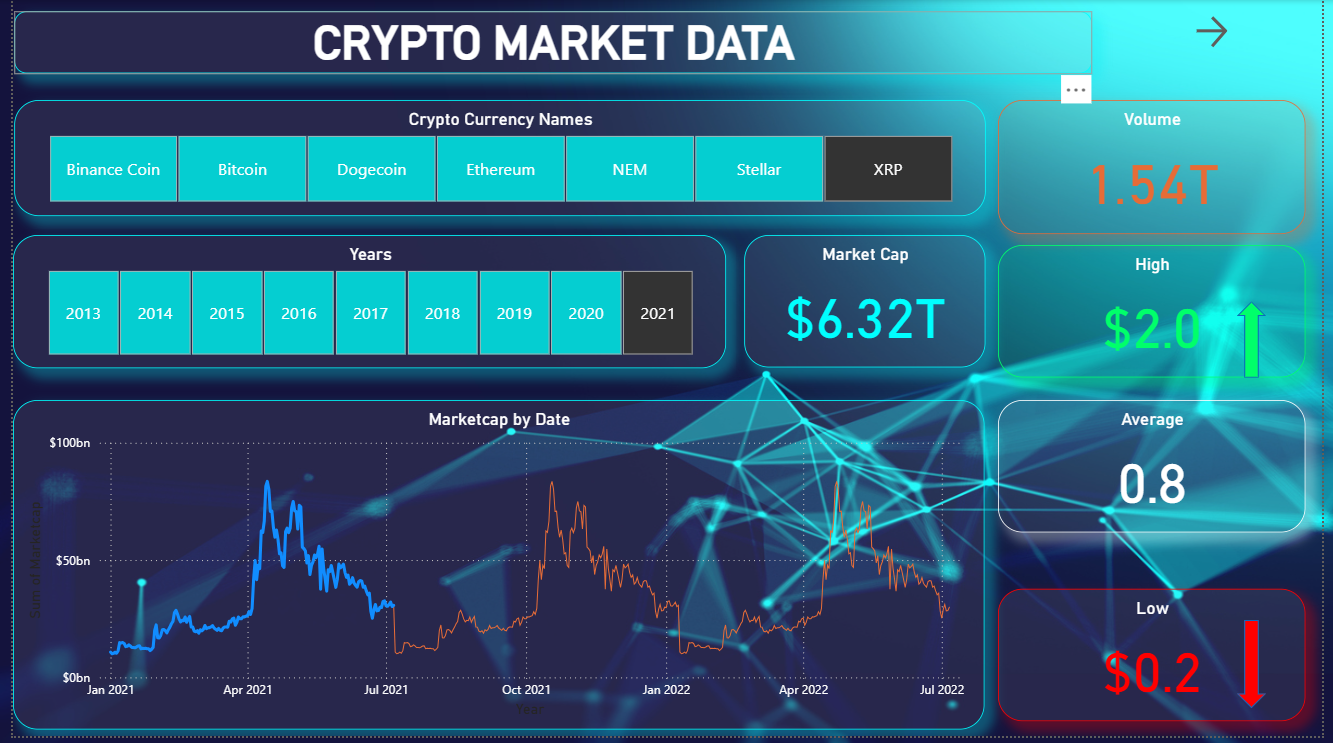

The page's visual inventory and layout, read from the dashboard file:
{"tool":"powerbi","page":{"name":"Page 1","canvas":[1280,720],"ordinal":0},"visuals":[{"type":"slicer","title":"Crypto Currency Names","fields":{"Values":["CryptoData_CSV.Name"]},"box":[1.2,97.8,950.1,113.7],"z":0},{"type":"slicer","title":"Years","fields":{"Values":["CryptoData_CSV.Year"]},"box":[0,229.8,698,130.8],"z":1000},{"type":"lineChart","title":"Marketcap by Date","fields":{"Y":["Sum(CryptoData_CSV.Marketcap)"],"Category":["CryptoData_CSV.Date.Variation.Date Hierarchy.Year","CryptoData_CSV.Date.Variation.Date Hierarchy.Month","CryptoData_CSV.Date.Variation.Date Hierarchy.Day"]},"box":[0,391.7,950.4,322.6],"z":2000},{"type":"actionButton","box":[1152,11.5,44.6,40.3],"z":3000},{"type":"card","title":"Market Cap","fields":{"Values":["Sum(CryptoData_CSV.Marketcap)"]},"box":[715.4,229.9,236,129.6],"z":4000},{"type":"card","title":"Volume","fields":{"Values":["Sum(CryptoData_CSV.Volume)"]},"box":[963.6,97.8,300.8,130.8],"z":5000},{"type":"card","title":"High","fields":{"Values":["Max(CryptoData_CSV.High)"]},"box":[963.6,239.7,300.8,129.6],"z":6000},{"type":"card","title":"Average","fields":{"Values":["Avg(CryptoData_CSV.Average)"]},"box":[963.6,391.3,300.8,129.6],"z":7000},{"type":"card","title":"Low","fields":{"Values":["Min(CryptoData_CSV.Low)"]},"box":[963.6,576,300.8,129.6],"z":8000},{"type":"shape","box":[1196.6,295.2,28.8,74.9],"z":9000},{"type":"shape","box":[1196.6,606.2,28.8,86.4],"z":10000},{"type":"textbox","title":"CRYPTO MARKET DATA","box":[1.2,11,1054.1,61.1],"z":11000}]}

Visuals, with their boxes in screenshot pixels (x1, y1, x2, y2), scaled from the page's 1280x720 canvas onto the 1333x743 screenshot:
"Crypto Currency Names" slicer: bbox=[1, 101, 991, 218]
"Years" slicer: bbox=[0, 237, 727, 372]
"Marketcap by Date" lineChart: bbox=[0, 404, 990, 737]
actionButton: bbox=[1200, 12, 1246, 53]
"Market Cap" card: bbox=[745, 237, 991, 371]
"Volume" card: bbox=[1003, 101, 1317, 236]
"High" card: bbox=[1003, 247, 1317, 381]
"Average" card: bbox=[1003, 404, 1317, 538]
"Low" card: bbox=[1003, 594, 1317, 728]
shape: bbox=[1246, 305, 1276, 382]
shape: bbox=[1246, 626, 1276, 715]
"CRYPTO MARKET DATA" textbox: bbox=[1, 11, 1099, 74]
